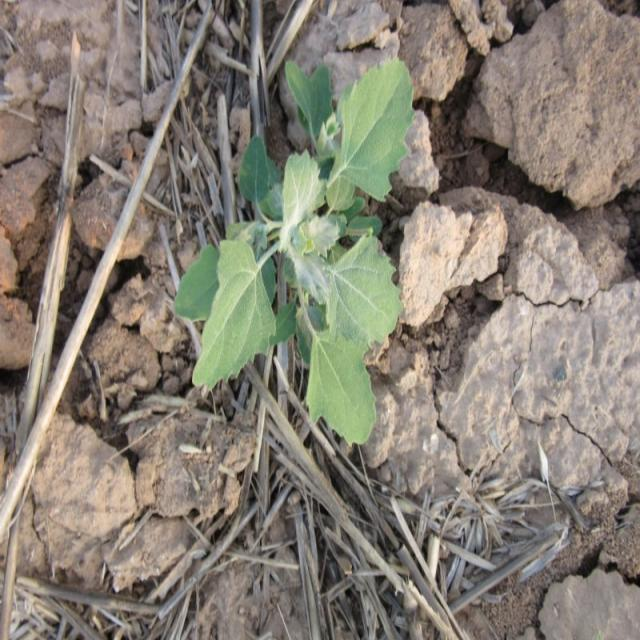ca: (172, 64, 410, 448)
